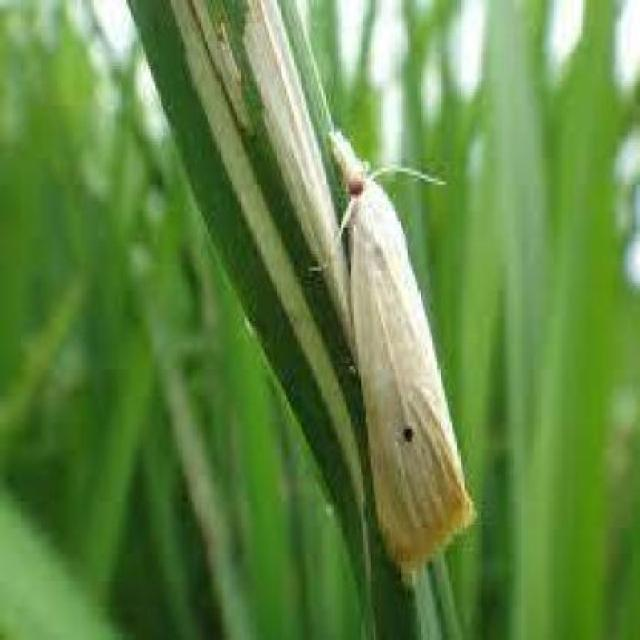stem-borer: (324, 123, 478, 586)
